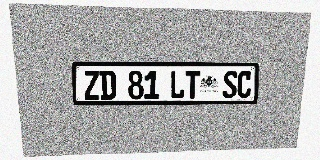1: (144, 70, 159, 99)
8: (128, 70, 143, 99)
C: (237, 71, 252, 98)
D: (99, 70, 116, 99)
L: (170, 71, 185, 99)
S: (222, 71, 238, 98)
T: (185, 71, 200, 99)
Z: (83, 70, 100, 100)
